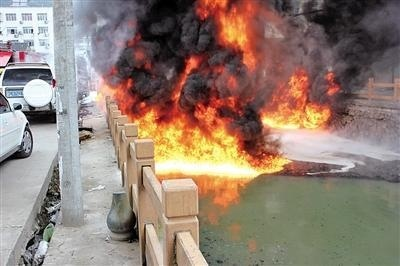fire: (105, 11, 285, 189)
